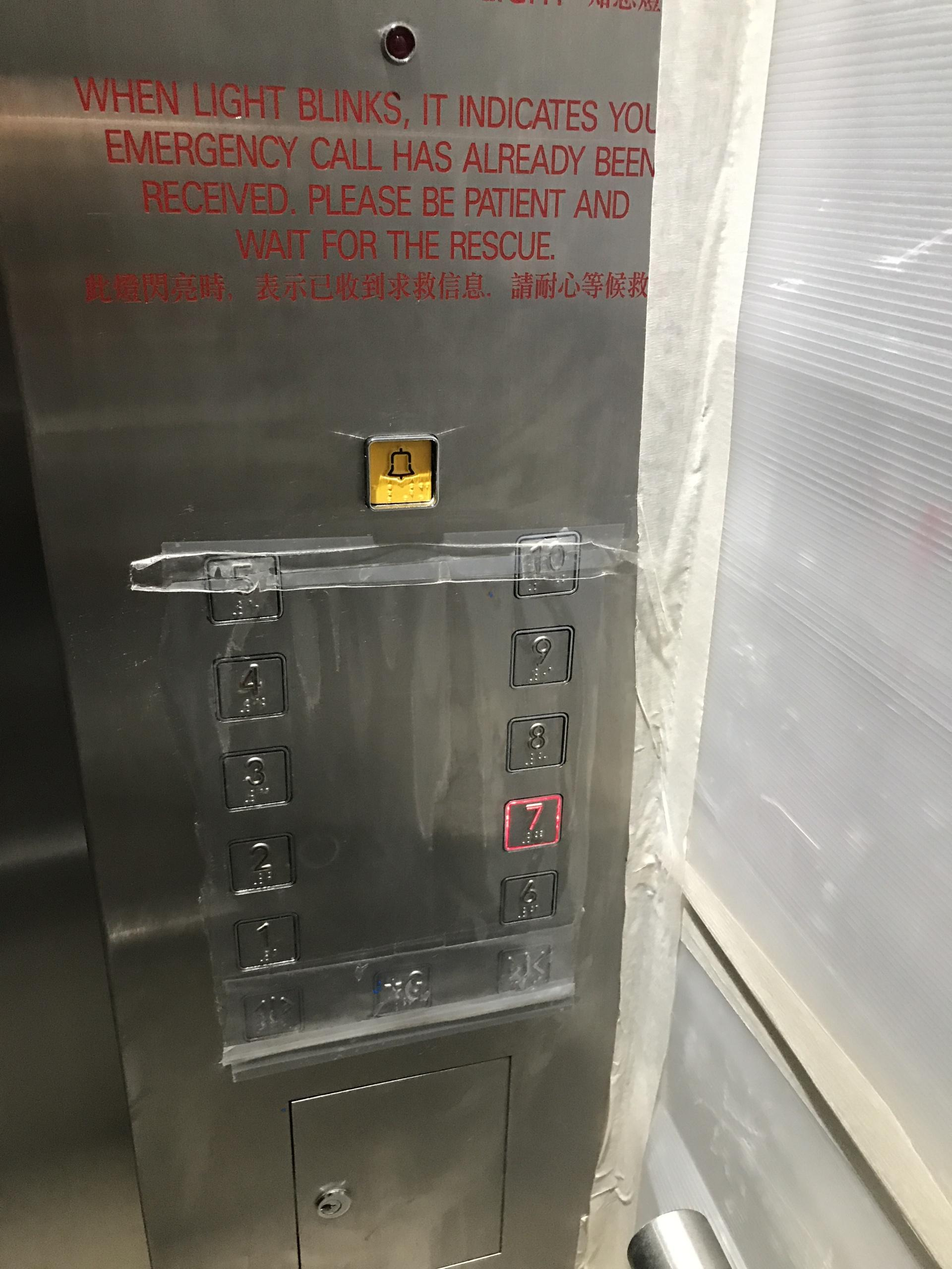1: (232, 910, 302, 973)
10: (510, 528, 583, 599)
2: (225, 829, 298, 896)
3: (217, 744, 293, 812)
4: (210, 651, 290, 724)
5: (200, 550, 286, 627)
6: (497, 867, 559, 925)
7: (500, 791, 565, 853)
8: (504, 710, 569, 775)
9: (507, 623, 575, 690)
alarm: (362, 430, 441, 513)
keyhole: (311, 1179, 355, 1223)
